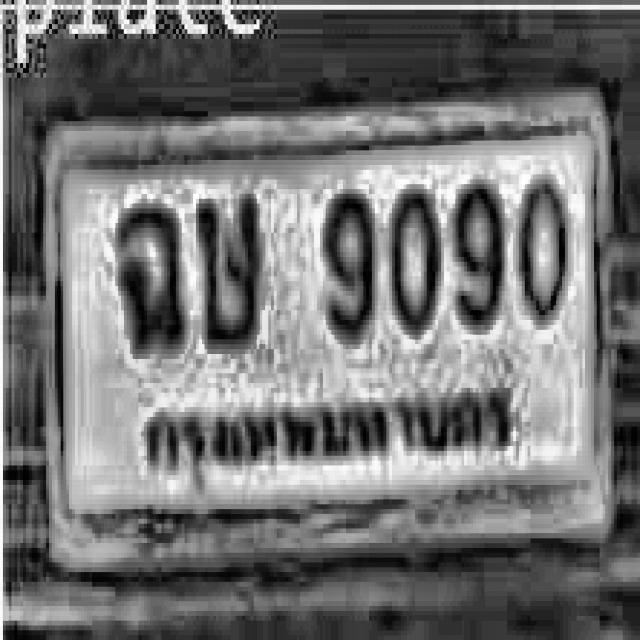license-plate: (40, 79, 612, 576)
